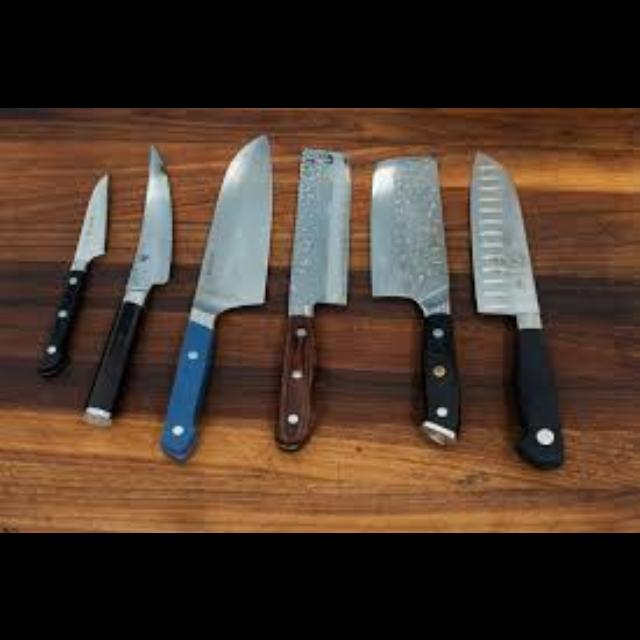Knife: (158, 133, 272, 461), (468, 146, 562, 468), (368, 154, 460, 444), (82, 142, 172, 426), (272, 145, 352, 449), (35, 170, 109, 374)
